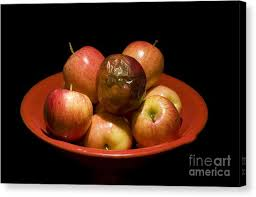apple: (45, 92, 95, 144), (129, 97, 183, 142), (85, 115, 133, 152), (128, 40, 168, 84), (64, 50, 106, 91)
damaged_apple: (96, 55, 147, 117)
